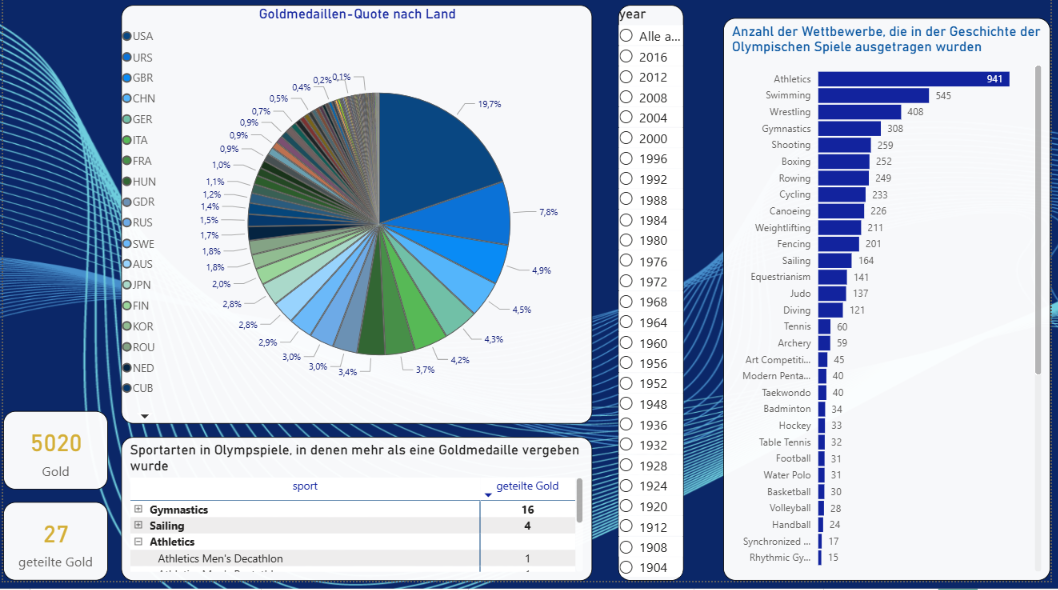

What the dashboard file says about the page in this screenshot:
{"tool":"powerbi","page":{"name":" Langfristig erfolgreichstene Länder","canvas":[1280,720],"ordinal":0},"visuals":[{"type":"listSlicer","fields":{"Values":["public dim_date.year"]},"box":[752,16,80,704],"z":0},{"type":"card","fields":{"Values":["public fact_results.Gold"]},"box":[0,512,128,96],"z":1000},{"type":"clusteredBarChart","title":"Anzahl der Wettbewerbe, die in der Geschichte der Olympischen Spiele ausgetragen wurden","fields":{"Category":["public dim_sport.sport"],"Y":["kontrol.Gold_Event"]},"box":[880,32,400,688],"z":4000},{"type":"pieChart","title":"Goldmedaillen-Quote nach Land","fields":{"Category":["public dim_country.noc"],"Y":["public fact_results.Gold"]},"box":[144,16,576,512],"z":5000},{"type":"pivotTable","title":"Sportarten in Olympspiele, in denen mehr als eine Goldmedaille vergeben wurde","fields":{"Rows":["public dim_sport.sport","public dim_event.event"],"Values":["kontrol.geteilte Gold"]},"box":[144,544,576,176],"z":6000},{"type":"card","fields":{"Values":["kontrol.geteilte Gold"]},"box":[0,624,128,96],"z":7000}]}

Visuals, with their boxes in screenshot pixels (x1, y1, x2, y2), scaled from the page's 1280x720 canvas onto the 1058x590 screenshot:
listSlicer - public dim_date.year: box=[622, 13, 688, 589]
card - public fact_results.Gold: box=[0, 420, 106, 498]
"Anzahl der Wettbewerbe, die in der Geschichte der Olympischen Spiele ausgetragen wurden" clusteredBarChart: box=[727, 26, 1057, 589]
"Goldmedaillen-Quote nach Land" pieChart: box=[119, 13, 595, 433]
"Sportarten in Olympspiele, in denen mehr als eine Goldmedaille vergeben wurde" pivotTable: box=[119, 446, 595, 589]
card - kontrol.geteilte Gold: box=[0, 511, 106, 589]
